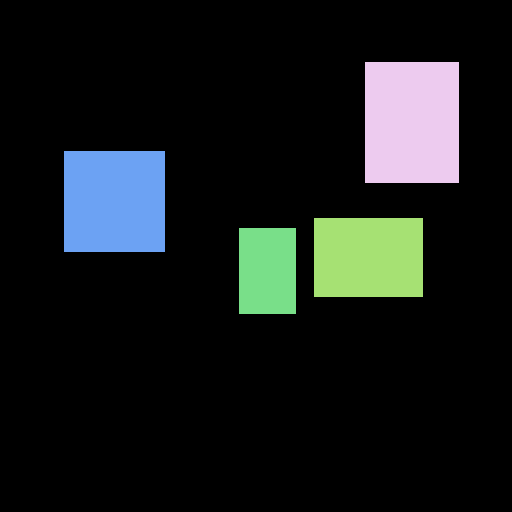rectangle: (365, 62, 458, 182), (314, 218, 422, 296), (239, 228, 295, 313)
square: (64, 151, 164, 251)
